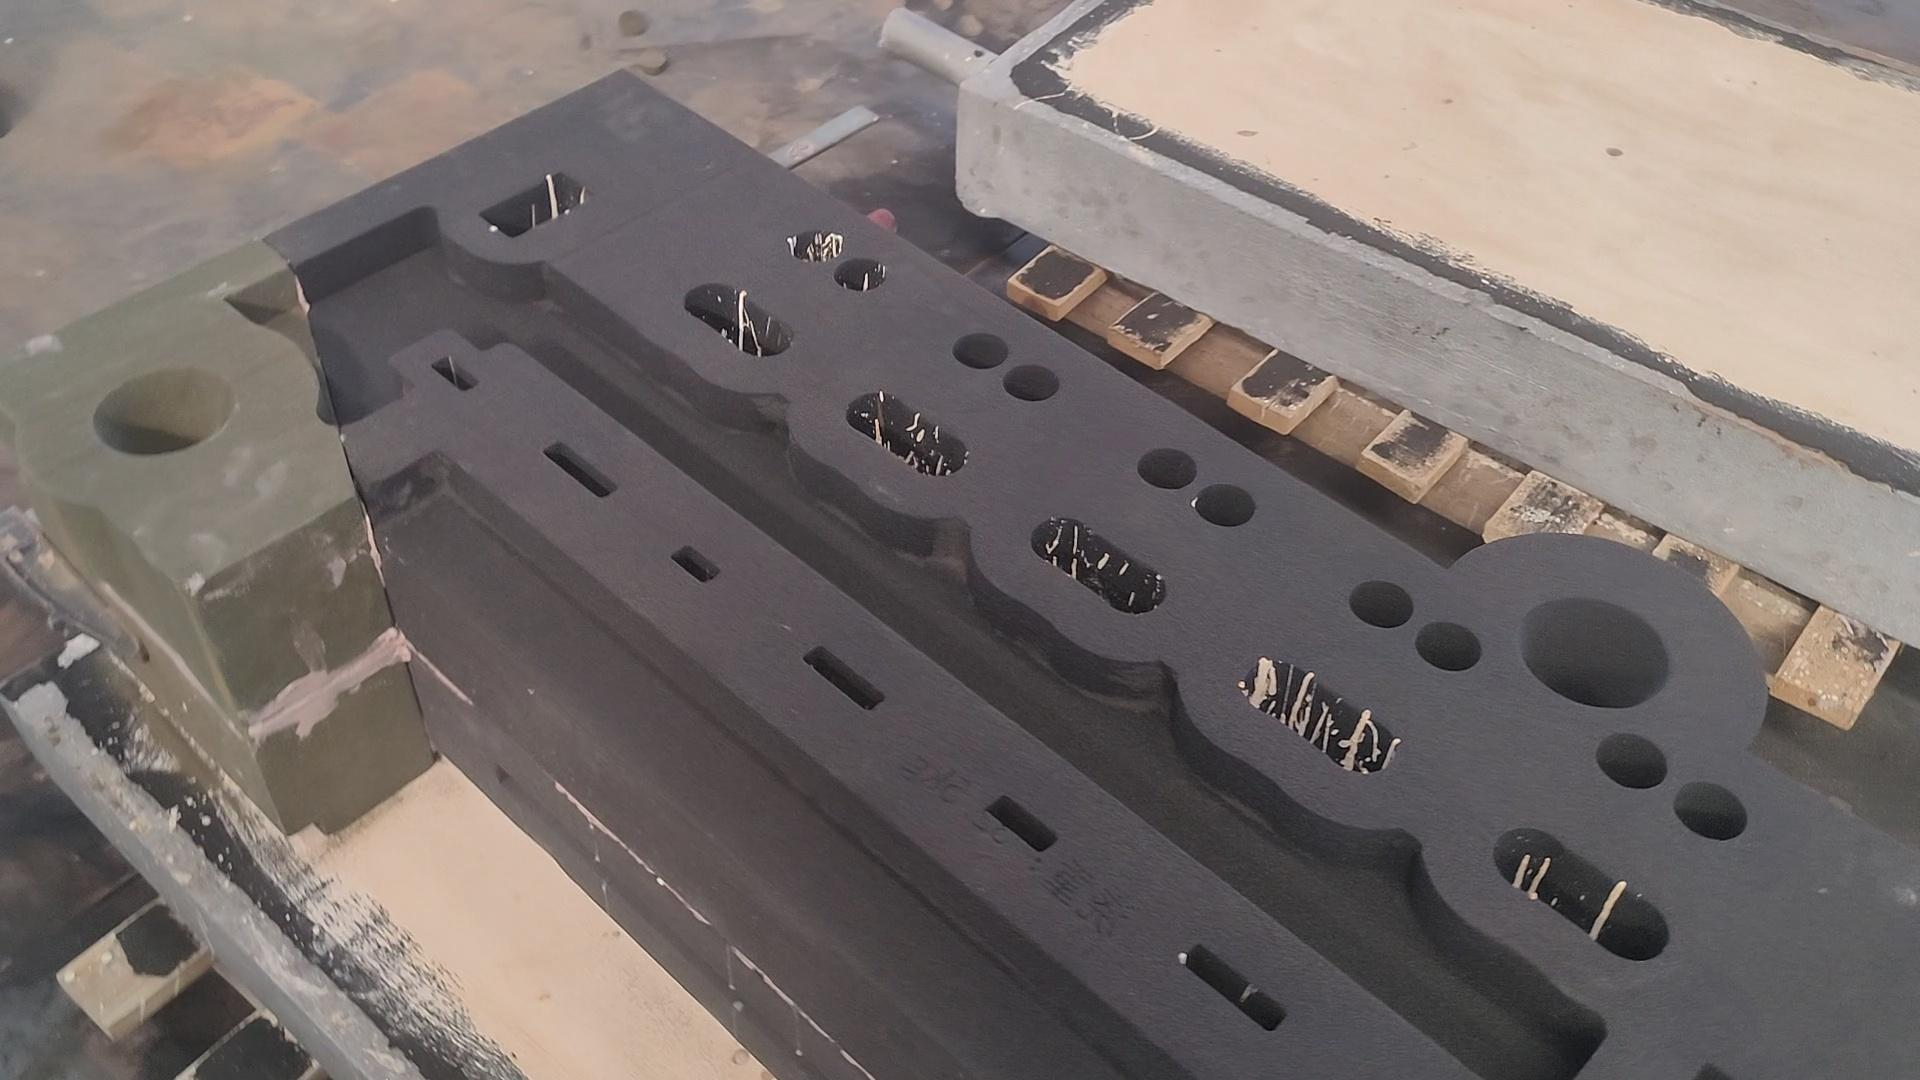pouring hole: (1518, 597, 1669, 709), (92, 368, 235, 456)
